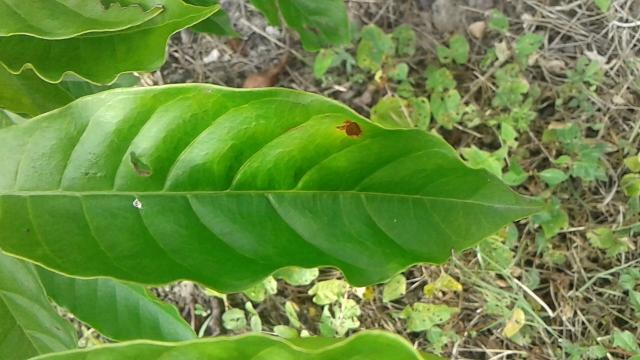rust_level_1: (1, 87, 546, 290)
